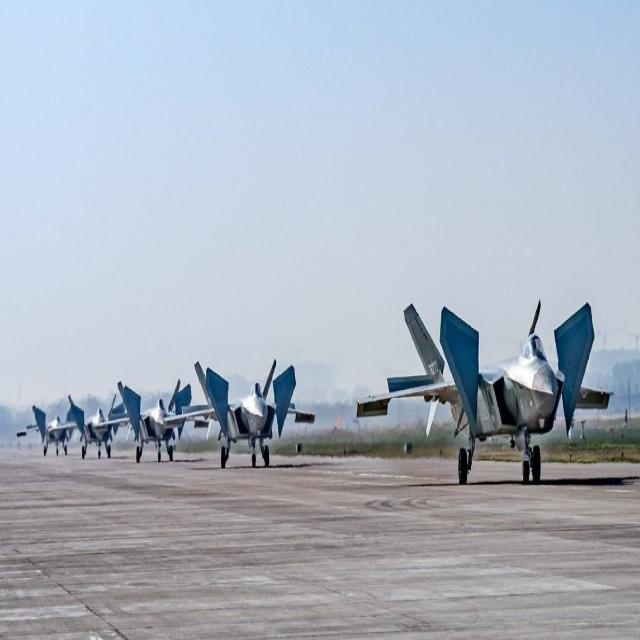MIL_Plane: (356, 300, 614, 486), (163, 358, 317, 468), (93, 378, 210, 463), (48, 391, 125, 460), (16, 403, 75, 458)
